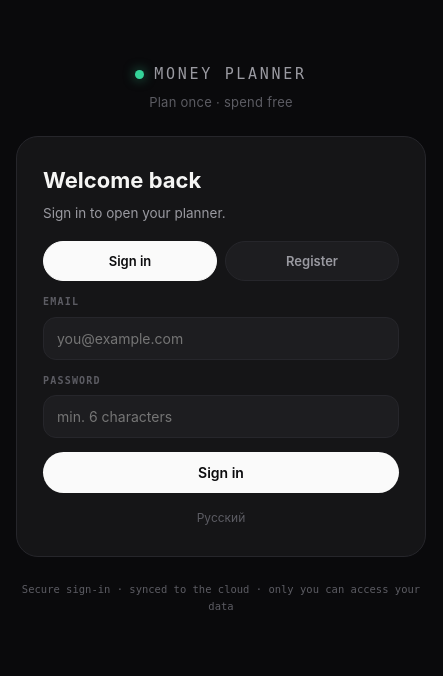
render sweep — every screen in both languages must not throw › register mode asks to confirm the password; sign-in mode does not
The width and height of the screenshot is (443, 676).
Expected: the text "Confirm password" is not shown
# switch to Register
Click the button "Register".
click(312, 261)  # box [225,241,399,281]
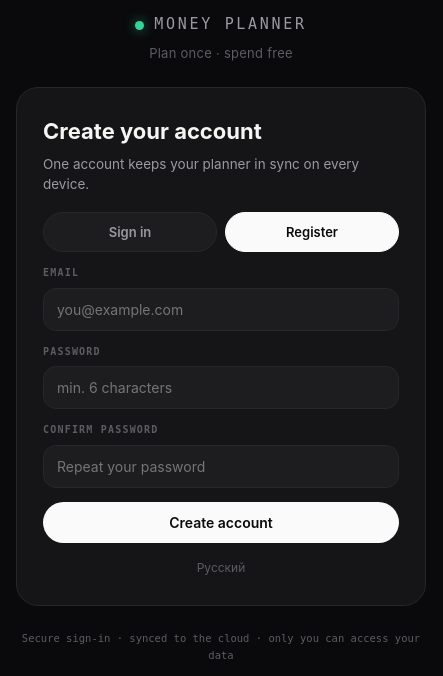
Now the text "Confirm password" is shown, box [43,424,158,435]
